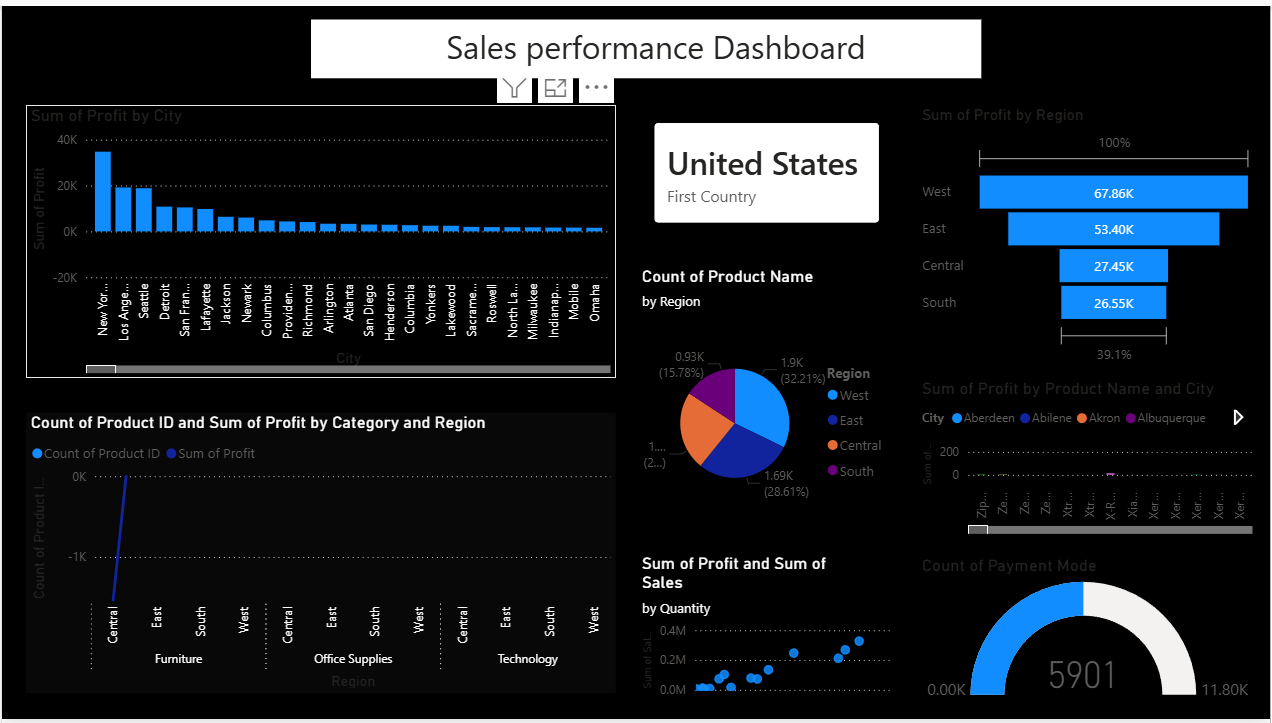

The page's visual inventory and layout, read from the dashboard file:
{"tool":"powerbi","page":{"name":"Page 1","canvas":[1280,720],"ordinal":0},"visuals":[{"type":"columnChart","fields":{"Category":["Sheet1.City"],"Y":["Sum(Sheet1.Profit)"]},"box":[24.2,99.9,595.1,275.6],"z":0},{"type":"lineChart","fields":{"Category":["Sheet1.Category","Sheet1.Region"],"Y":["CountNonNull(Sheet1.Product ID)","Sum(Sheet1.Profit)"]},"box":[24.2,410.3,595.1,283.2],"z":1},{"type":"pieChart","fields":{"Category":["Sheet1.Region"],"Y":["CountNonNull(Sheet1.Product Name)"]},"box":[640.5,262,263.5,275.6],"z":2},{"type":"cardVisual","fields":{"Data":["Min(Sheet1.Country)"]},"box":[640.5,99.9,263.5,137.8],"z":3},{"type":"scatterChart","fields":{"Category":["Sheet1.Quantity"],"X":["Sum(Sheet1.Profit)"],"Y":["Sum(Sheet1.Sales)"]},"box":[640.5,551.2,263.5,154.4],"z":4},{"type":"funnel","fields":{"Category":["Sheet1.Region"],"Y":["Sum(Sheet1.Profit)"]},"box":[923.7,99.9,343.7,266.5],"z":5},{"type":"ribbonChart","fields":{"Category":["Sheet1.Product Name"],"Y":["Sum(Sheet1.Profit)"],"Series":["Sheet1.City"]},"box":[923.7,375.5,343.7,162],"z":6},{"type":"gauge","fields":{"Y":["CountNonNull(Sheet1.Payment Mode)"]},"box":[923.9,554.3,343.8,151.8],"z":7},{"type":"textbox","box":[311.9,13.6,676.8,59.1],"z":8}]}

Visuals, with their boxes in screenshot pixels (x1, y1, x2, y2), scaled from the page's 1280x720 canvas onto the 1272x723 screenshot:
columnChart - Sheet1.City x Sum(Sheet1.Profit): pyautogui.locateOnScreen(24, 100, 615, 377)
lineChart - Sheet1.Category x Sheet1.Region: pyautogui.locateOnScreen(24, 412, 615, 696)
pieChart - Sheet1.Region x CountNonNull(Sheet1.Product Name): pyautogui.locateOnScreen(636, 263, 898, 540)
cardVisual - Min(Sheet1.Country): pyautogui.locateOnScreen(636, 100, 898, 239)
scatterChart - Sheet1.Quantity x Sum(Sheet1.Profit): pyautogui.locateOnScreen(636, 553, 898, 709)
funnel - Sheet1.Region x Sum(Sheet1.Profit): pyautogui.locateOnScreen(918, 100, 1259, 368)
ribbonChart - Sheet1.Product Name x Sum(Sheet1.Profit): pyautogui.locateOnScreen(918, 377, 1259, 540)
gauge - CountNonNull(Sheet1.Payment Mode): pyautogui.locateOnScreen(918, 557, 1260, 709)
textbox: pyautogui.locateOnScreen(310, 14, 983, 73)
